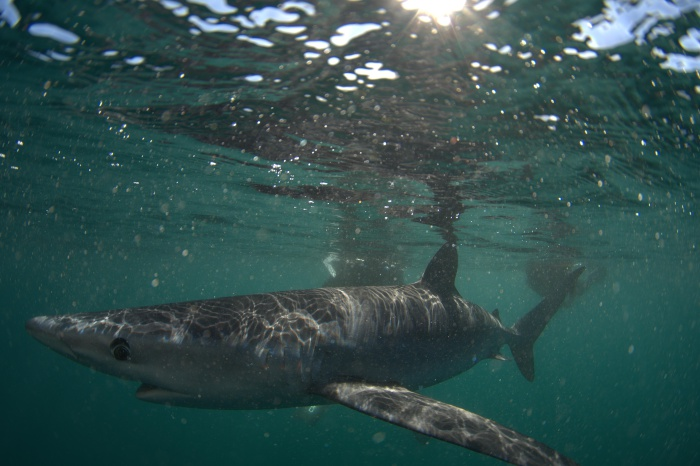Azul: (8, 210, 596, 466)
